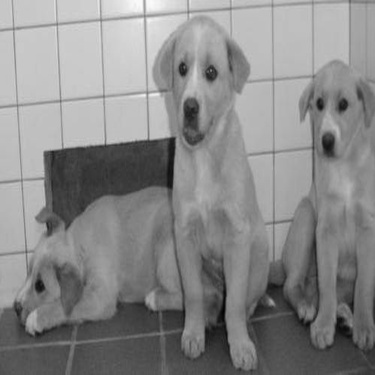dog: (147, 7, 276, 372), (17, 173, 283, 340), (258, 48, 374, 355)
